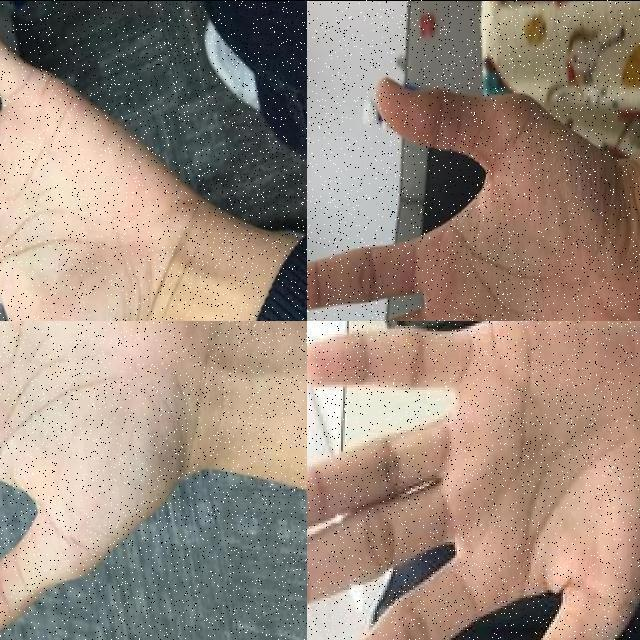hand: (307, 320, 640, 640), (307, 74, 640, 320), (0, 320, 239, 640), (0, 0, 201, 320)
